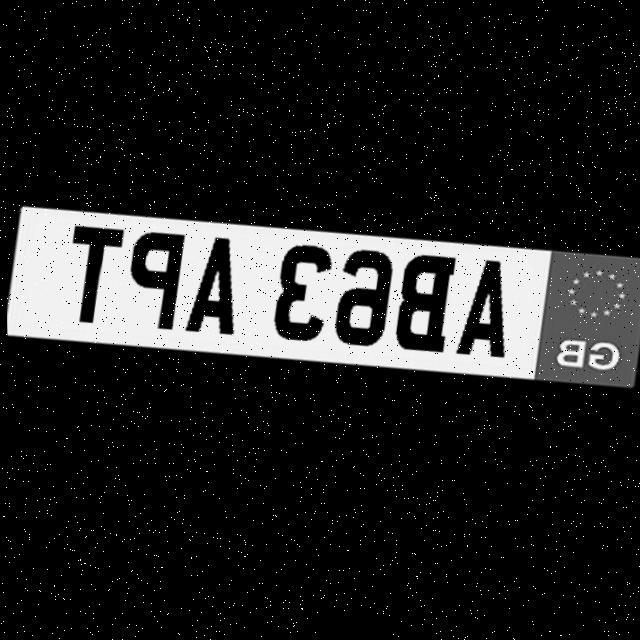license-plates: (7, 203, 640, 387)
